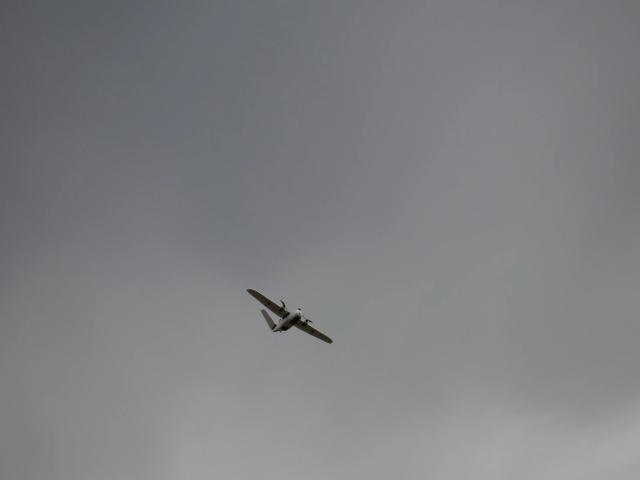plane: (246, 287, 332, 343)
